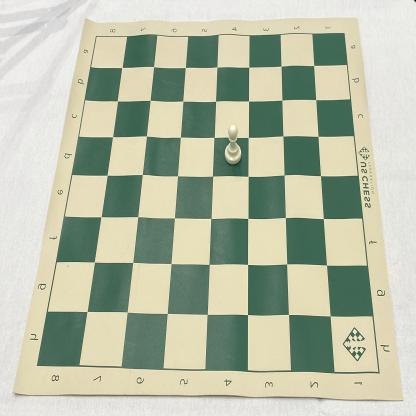white-pawn: (223, 123, 242, 166)
